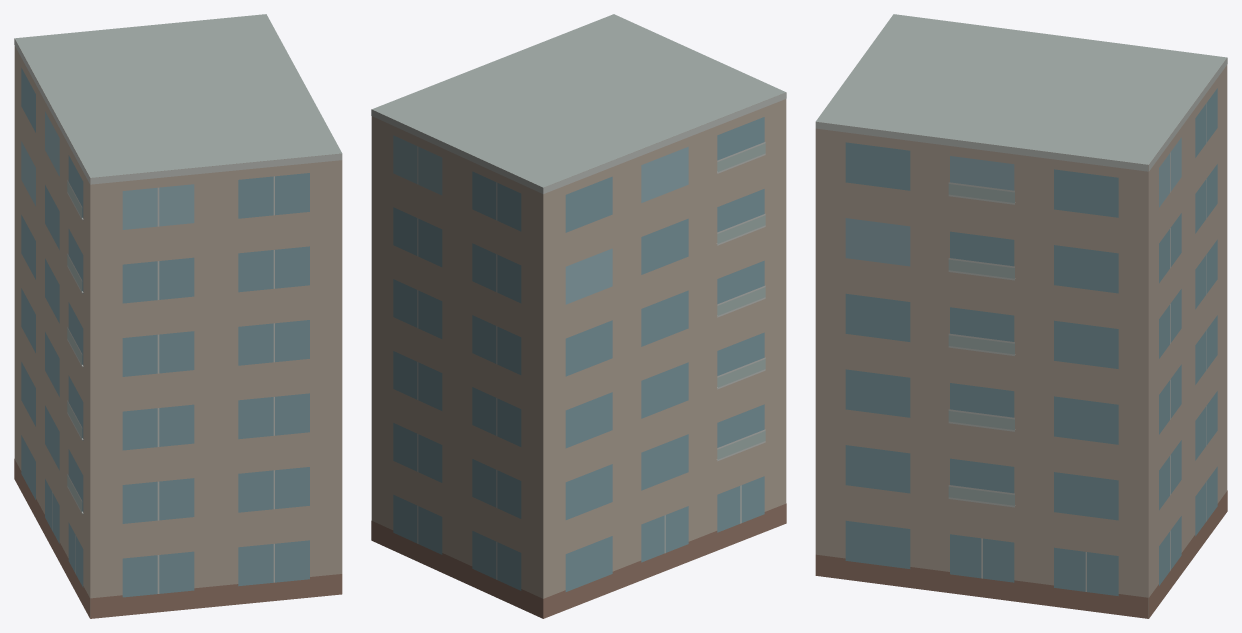
Rendered from survey-upis-32873974.glb.
3 views of the same model, side by side, from view 1: azimuth 30°, elevation 25°; view 2: azimuth 150°, elevation 25°; view 3: azimuth 270°, elevation 25° (orthographic). The views are drawn at different scales.
Visible parts, largest first — view 1: survey-upis-32873974.tmp; view 2: survey-upis-32873974.tmp; view 3: survey-upis-32873974.tmp.
Part boxes in pixels (x1,y1,x2,y2): survey-upis-32873974.tmp: (14, 14, 342, 618); survey-upis-32873974.tmp: (371, 14, 786, 618); survey-upis-32873974.tmp: (815, 14, 1227, 618).
Size of the model in its own units: 11.48 by 16.1 by 13.25.
